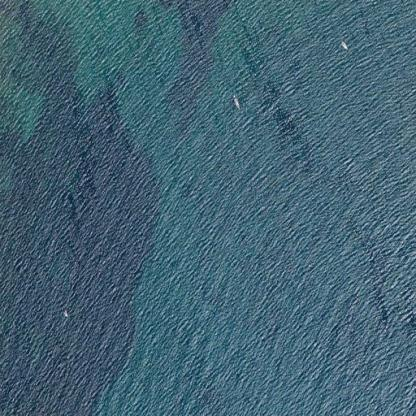ship: (227, 90, 245, 113), (55, 304, 73, 323), (336, 36, 351, 54)
